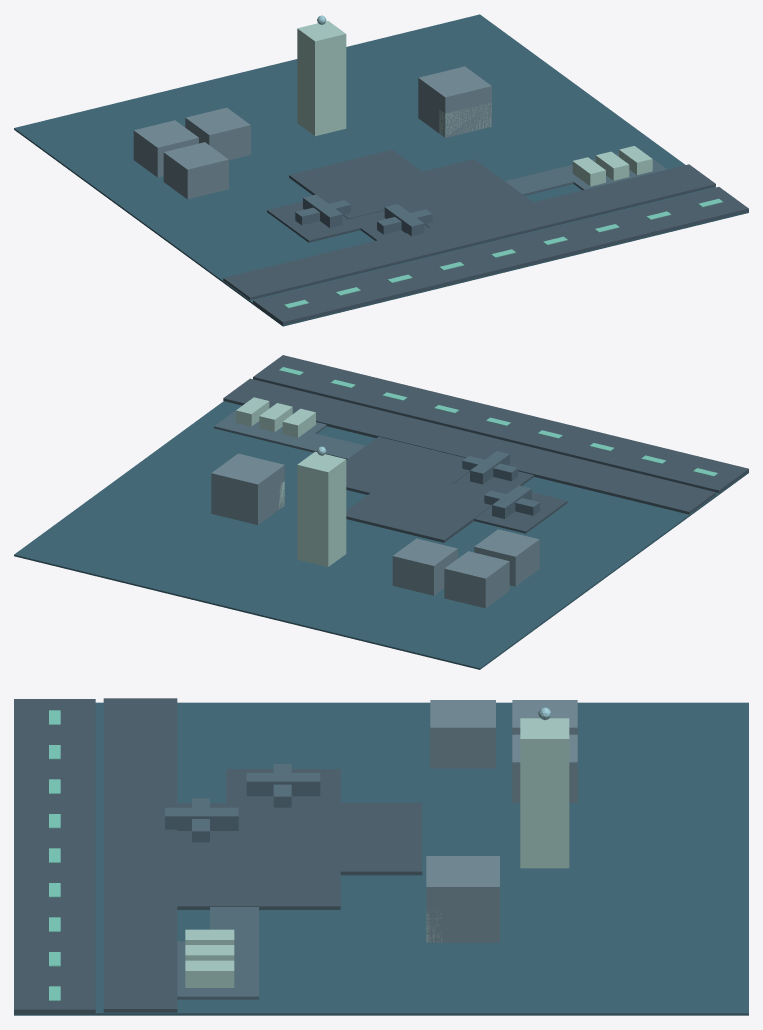
The model's file is stage_12.glb.
3 renders of one model, top to bottom at view 1: azimuth 30°, elevation 25°; view 2: azimuth 150°, elevation 25°; view 3: azimuth 270°, elevation 25°, orthographic. The views are drawn at different scales.
Visible parts, largest first — view 1: geometry_0; view 2: geometry_0; view 3: geometry_0.
Boxes of the visible parts, x1,y1,x2,y2 form: geometry_0: (14,14,748,326); geometry_0: (14,355,748,669); geometry_0: (14,698,748,1015).
Size of the model in its own units: 9 by 2.06 by 9.
